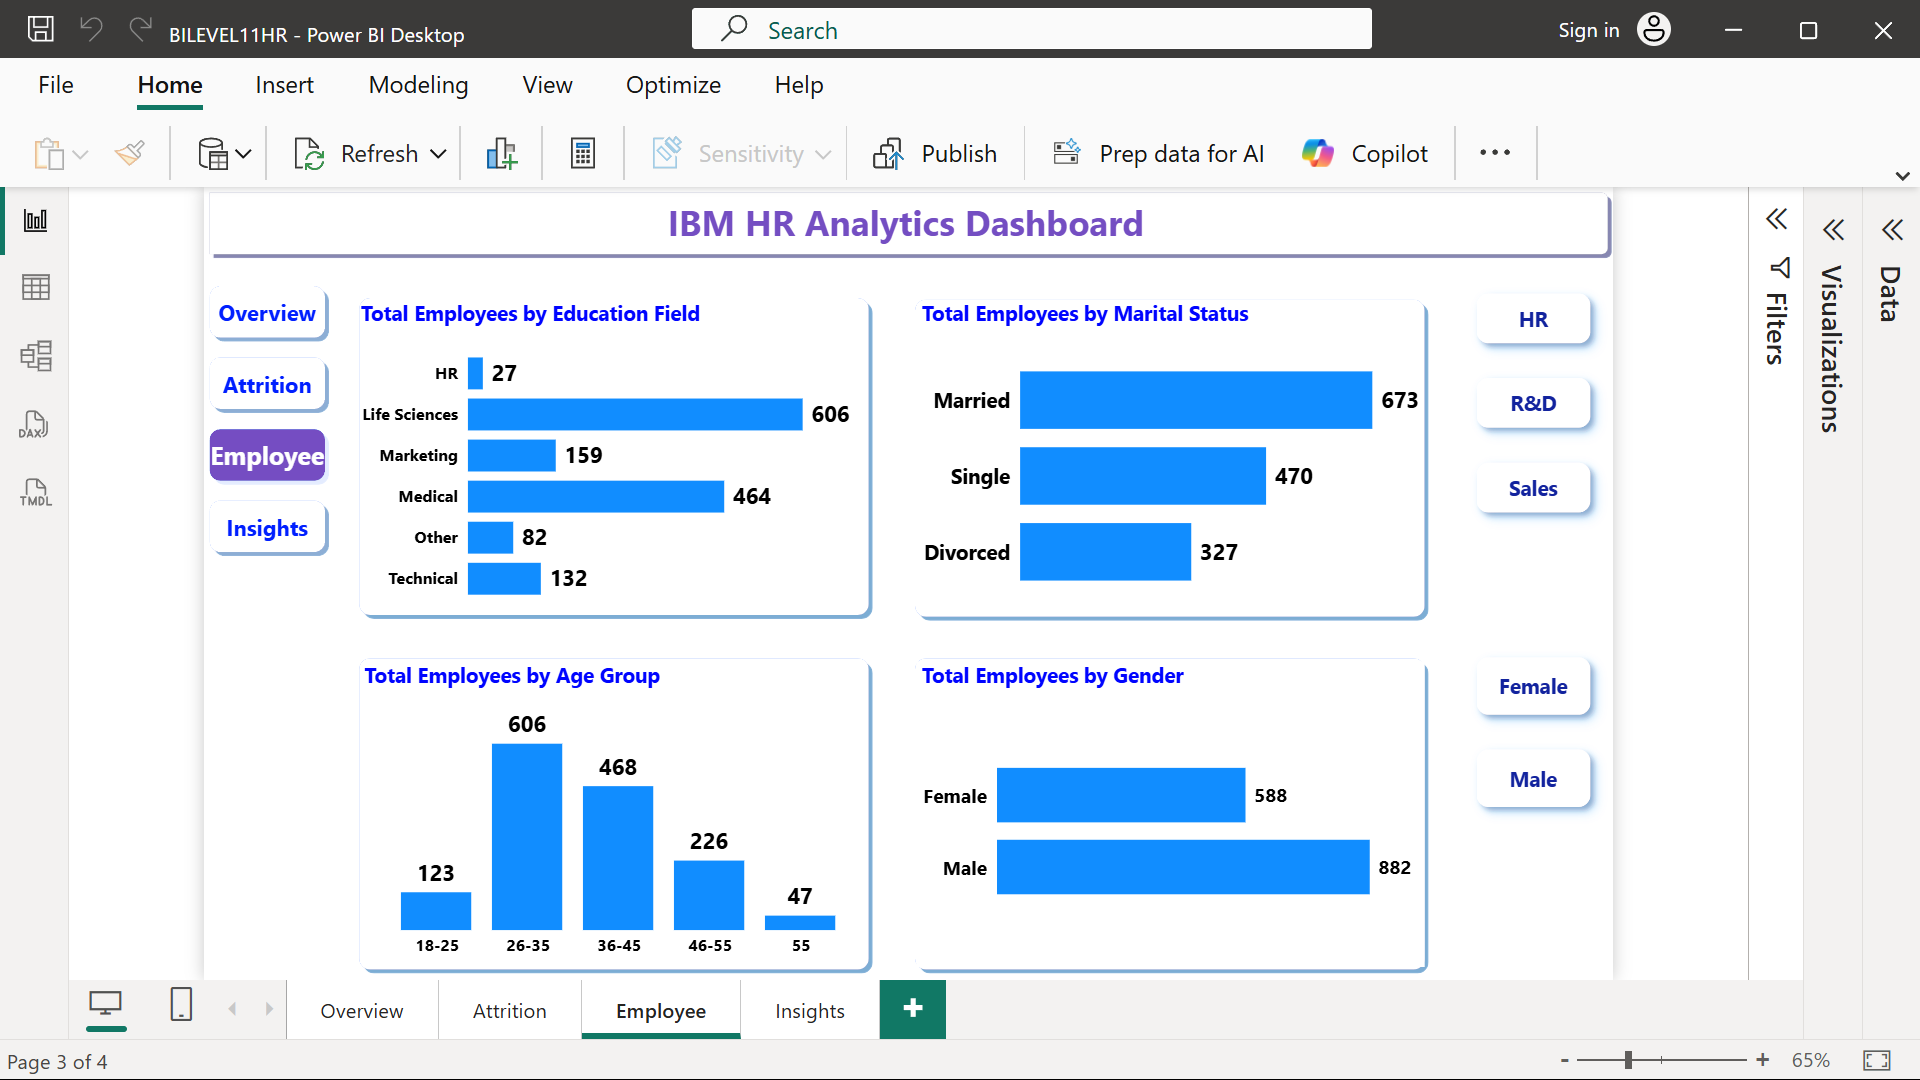

This screenshot's page, from the dashboard's own definition file:
{"tool":"powerbi","page":{"name":"Employee ","canvas":[1280,720],"ordinal":2},"visuals":[{"type":"shape","box":[136.2,95.7,472.9,298.1],"z":0},{"type":"pageNavigator","box":[0,84.6,115.9,252],"z":1000},{"type":"shape","box":[0,0,1280,66],"z":2000},{"type":"textbox","box":[8.7,4.3,1256.5,56.5],"z":3000},{"type":"shape","box":[640.3,97.5,472.9,298.1],"z":4000},{"type":"advancedSlicerVisual","fields":{"Values":["hr data.Department"]},"box":[1134.6,75.4,145.4,242.9],"z":5000},{"type":"shape","box":[136.2,423.2,472.9,292.6],"z":6000},{"type":"advancedSlicerVisual","fields":{"Values":["hr data.Gender"]},"box":[1134.6,406.6,145.4,178.5],"z":7000},{"type":"barChart","title":"Total Employees by Education Field ","fields":{"Category":["hr data.EducationField"],"Y":["Dax.Total Employees"]},"box":[138,101.2,458.2,288.9],"z":8000},{"type":"clusteredBarChart","title":"Total Employees by Marital Status","fields":{"Category":["hr data.MaritalStatus"],"Y":["Dax.Total Employees"]},"box":[647.7,101.2,461.8,290.7],"z":9000},{"type":"clusteredColumnChart","fields":{"Category":["hr data.Age Group"],"Y":["Dax.Total Employees"]},"box":[139.8,430.6,472.9,277.8],"z":10000},{"type":"shape","box":[640.3,423.2,472.9,292.6],"z":11000},{"type":"clusteredBarChart","fields":{"Category":["hr data.Gender"],"Y":["Dax.Total Employees"]},"box":[647.7,430.6,461.8,277.8],"z":12000}]}

Visuals, with their boxes on the page's 1280x720 design canvas (x1, y1, x2, y2). These are canvas units, not pixel positions in the 1920x1080 screenshot, which may show the page scaled, cropped or inside an application window:
shape: 136 96 609 394
pageNavigator: 0 85 116 337
shape: 0 0 1280 66
textbox: 9 4 1265 61
shape: 640 98 1113 396
advancedSlicerVisual - hr data.Department: 1135 75 1280 318
shape: 136 423 609 716
advancedSlicerVisual - hr data.Gender: 1135 407 1280 585
"Total Employees by Education Field " barChart: 138 101 596 390
"Total Employees by Marital Status" clusteredBarChart: 648 101 1110 392
clusteredColumnChart - hr data.Age Group x Dax.Total Employees: 140 431 613 708
shape: 640 423 1113 716
clusteredBarChart - hr data.Gender x Dax.Total Employees: 648 431 1110 708
